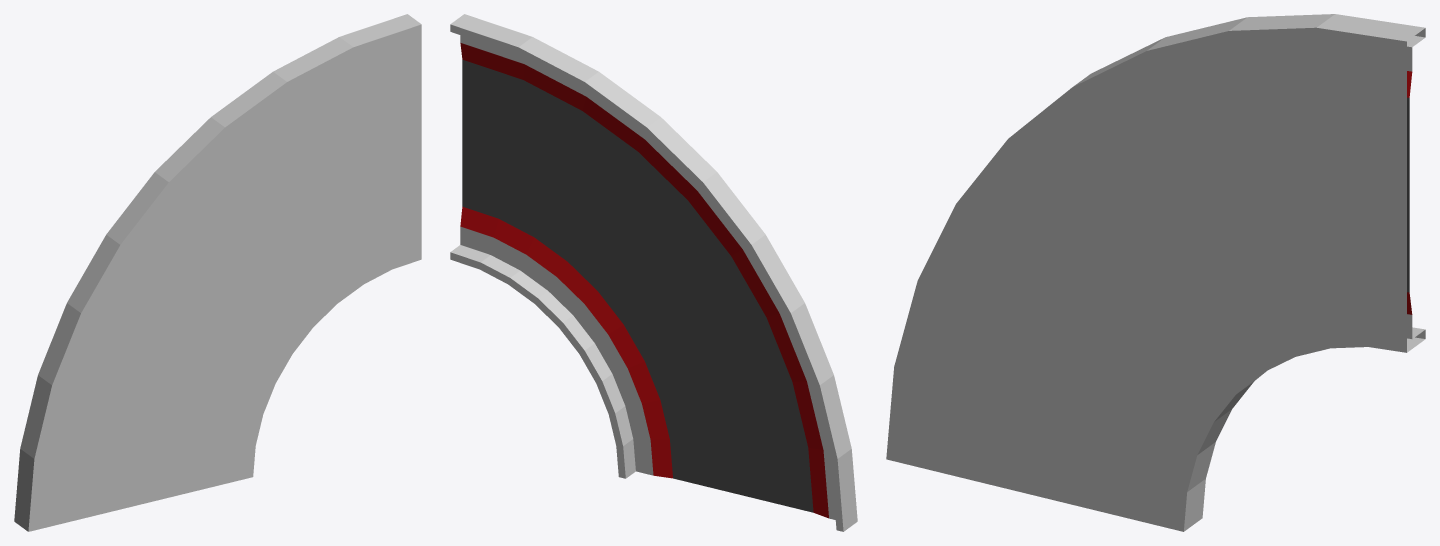
The model's file is Turn_Flat.fbx.
3 renders of one model, left to right at view 1: azimuth 30°, elevation 25°; view 2: azimuth 150°, elevation 25°; view 3: azimuth 330°, elevation 25°, orthographic. The views are drawn at different scales.
Visible parts, largest first — view 1: Turn_Flat; view 2: Turn_Flat; view 3: Turn_Flat.
Part boxes in pixels (x1,y1,x2,y2): Turn_Flat: (14, 14, 421, 531); Turn_Flat: (450, 14, 857, 531); Turn_Flat: (886, 14, 1425, 531).
Bounding box in the file's own units: 2240 × 2240 × 140.
